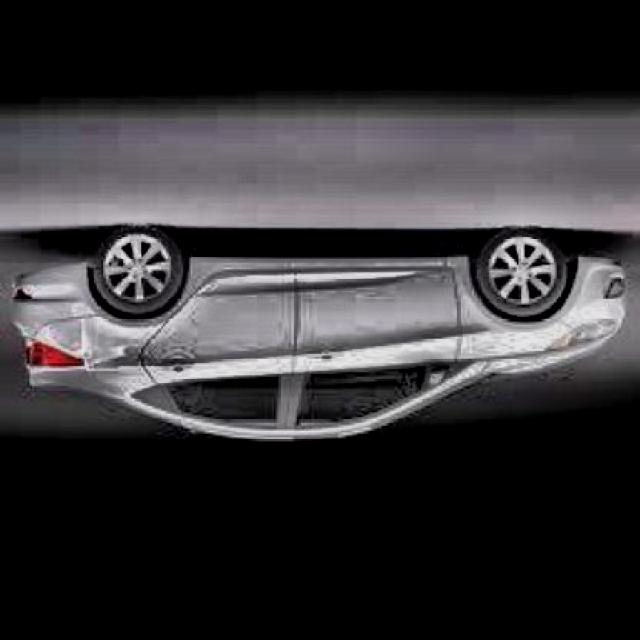silver: (13, 227, 625, 438)
